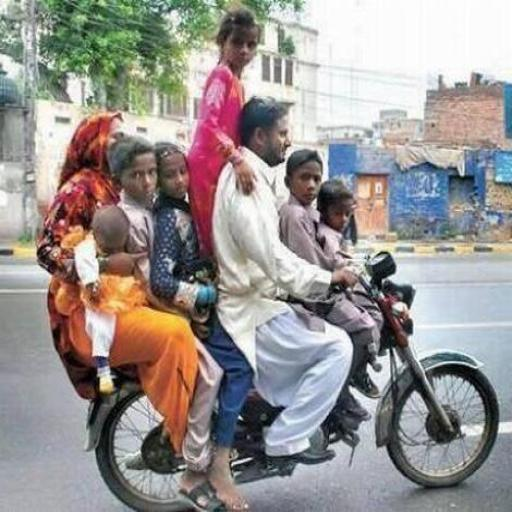no helmet: (228, 78, 301, 194)
triple riding: (39, 8, 500, 499)
